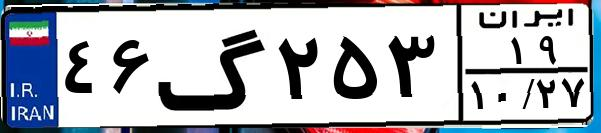0: (495, 70, 520, 125)
1: (508, 27, 537, 80), (470, 70, 495, 125)
2: (270, 28, 330, 110), (535, 70, 560, 125)
3: (385, 28, 445, 110)
4: (57, 26, 110, 100)
5: (330, 28, 385, 110)
6: (110, 28, 156, 98)
7: (560, 70, 590, 125)
9: (537, 27, 568, 80)
گ: (156, 12, 270, 120)
